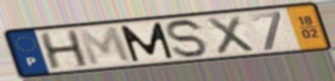7: (249, 10, 284, 52)
H: (37, 29, 92, 71)
M: (75, 25, 135, 68), (118, 21, 177, 64)
S: (165, 17, 211, 60)
X: (204, 14, 257, 57)
